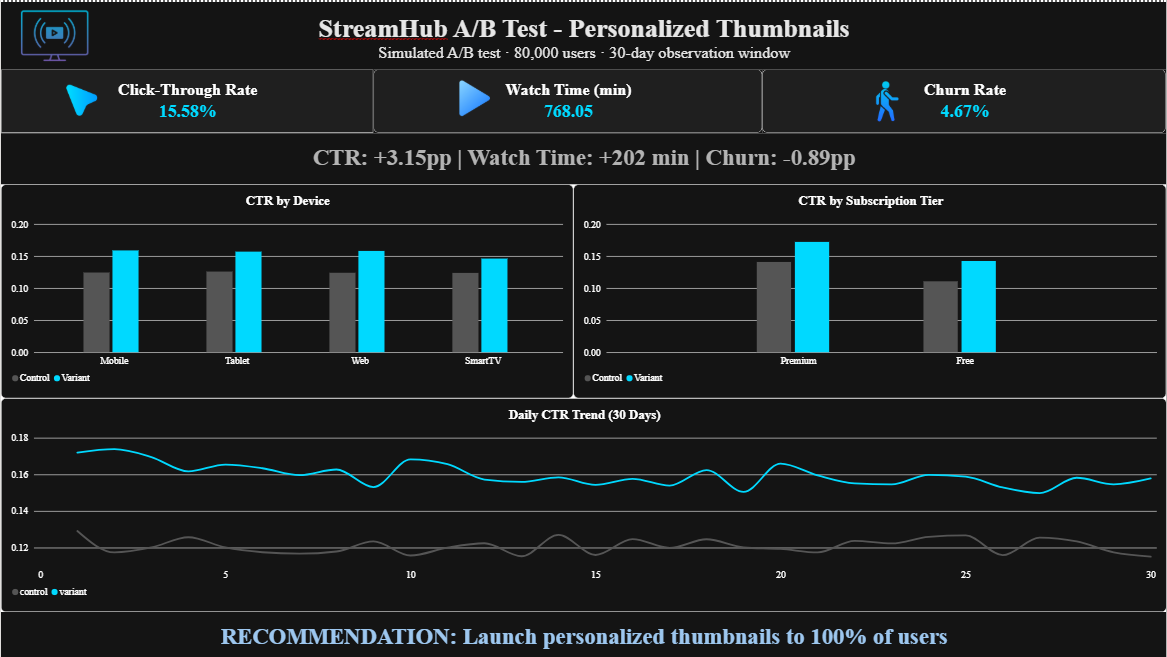

The dashboard page shown, as its layout file describes it:
{"tool":"powerbi","page":{"name":"Page 1","canvas":[1920,1080],"ordinal":0},"visuals":[{"type":"cardVisual","fields":{"Data":["Sum(streamhub_kpi_summary.ctr)"]},"box":[0,111.1,613.4,105],"z":0},{"type":"cardVisual","fields":{"Data":["Sum(streamhub_kpi_summary.watch_minutes)"]},"box":[613.4,111.1,640.1,105],"z":1000},{"type":"cardVisual","fields":{"Data":["Sum(streamhub_kpi_summary.churn_rate)"]},"box":[1253.5,111.1,666.9,105],"z":2000},{"type":"textbox","box":[0,0,1920.4,111],"z":3000},{"type":"clusteredColumnChart","title":"CTR by Device","fields":{"Category":["streamhub_device_summary.device"],"Series":["streamhub_device_summary.group"],"Y":["Sum(streamhub_device_summary.ctr)"]},"box":[0,300.5,942.7,352],"z":4000},{"type":"clusteredColumnChart","title":"CTR by Subscription Tier","fields":{"Category":["streamhub_tier_summary.tier"],"Series":["streamhub_tier_summary.group"],"Y":["Sum(streamhub_tier_summary.ctr)"]},"box":[942.7,300.5,977.7,352],"z":5000},{"type":"lineChart","title":"Daily CTR Trend (30 Days)","fields":{"Category":["streamhub_daily_trend.day"],"Series":["streamhub_daily_trend.group"],"Y":["Sum(streamhub_daily_trend.ctr)"]},"box":[0,652.5,1920.4,352],"z":6000},{"type":"image","box":[88.5,127.6,88.5,67.9],"z":7000},{"type":"image","box":[745.1,127.6,70,61.7],"z":8000},{"type":"image","box":[1410,127.6,98.8,72],"z":9000},{"type":"textbox","box":[0,216.1,1920.4,84.4],"z":10000},{"type":"image","box":[0,0,177,111.1],"z":10001},{"type":"textbox","box":[0,1004.5,1920.4,76.2],"z":10002}]}

Visuals, with their boxes in screenshot pixels (x1, y1, x2, y2), scaled from the page's 1920x1080 canvas onto the 1167x657 screenshot:
cardVisual - Sum(streamhub_kpi_summary.ctr): x1=0, y1=68, x2=373, y2=131
cardVisual - Sum(streamhub_kpi_summary.watch_minutes): x1=373, y1=68, x2=762, y2=131
cardVisual - Sum(streamhub_kpi_summary.churn_rate): x1=762, y1=68, x2=1166, y2=131
textbox: x1=0, y1=0, x2=1166, y2=68
"CTR by Device" clusteredColumnChart: x1=0, y1=183, x2=573, y2=397
"CTR by Subscription Tier" clusteredColumnChart: x1=573, y1=183, x2=1166, y2=397
"Daily CTR Trend (30 Days)" lineChart: x1=0, y1=397, x2=1166, y2=611
image: x1=54, y1=78, x2=108, y2=119
image: x1=453, y1=78, x2=495, y2=115
image: x1=857, y1=78, x2=917, y2=121
textbox: x1=0, y1=131, x2=1166, y2=183
image: x1=0, y1=0, x2=108, y2=68
textbox: x1=0, y1=611, x2=1166, y2=656
